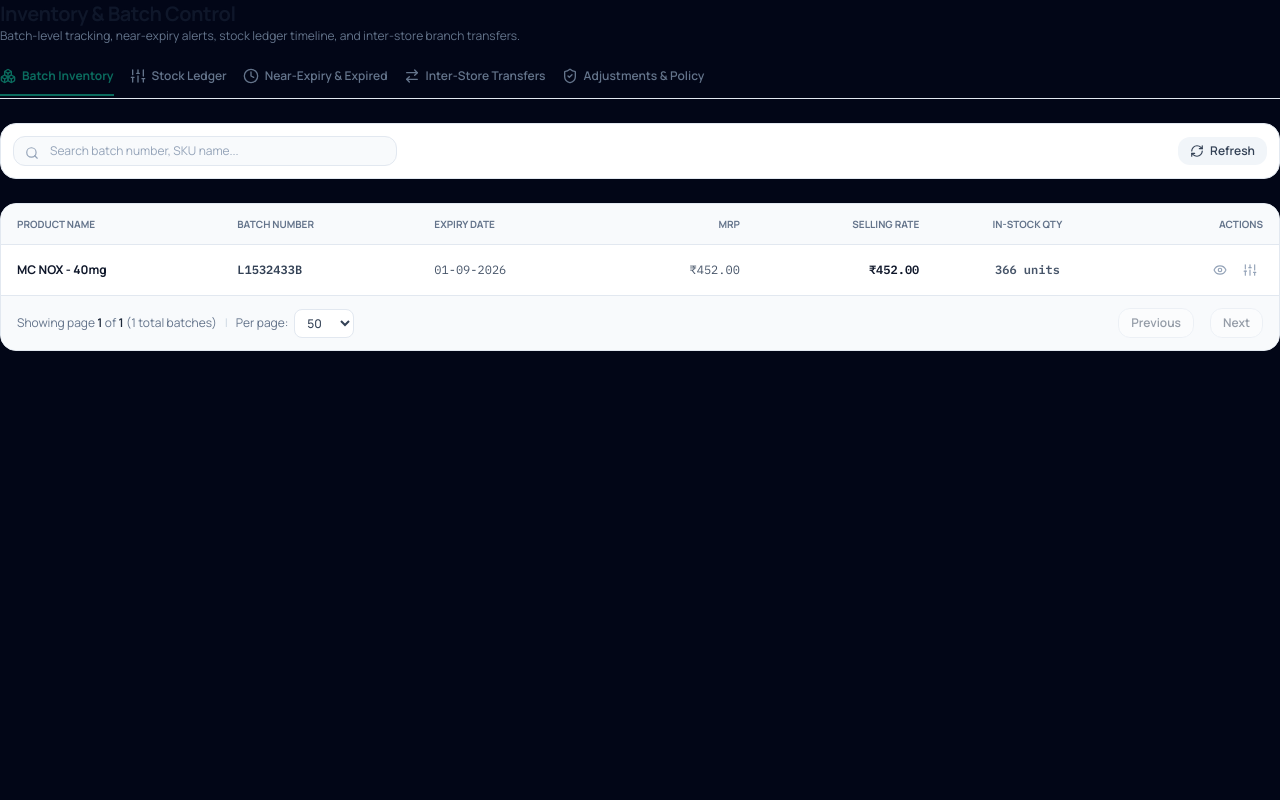
Test: Inventory row actions › reads a batch straight off the batch list, product nested or flattened
The width and height of the screenshot is (1280, 800).
Click the button "Batch Inventory" at (57, 82), box [0,68,114,96]
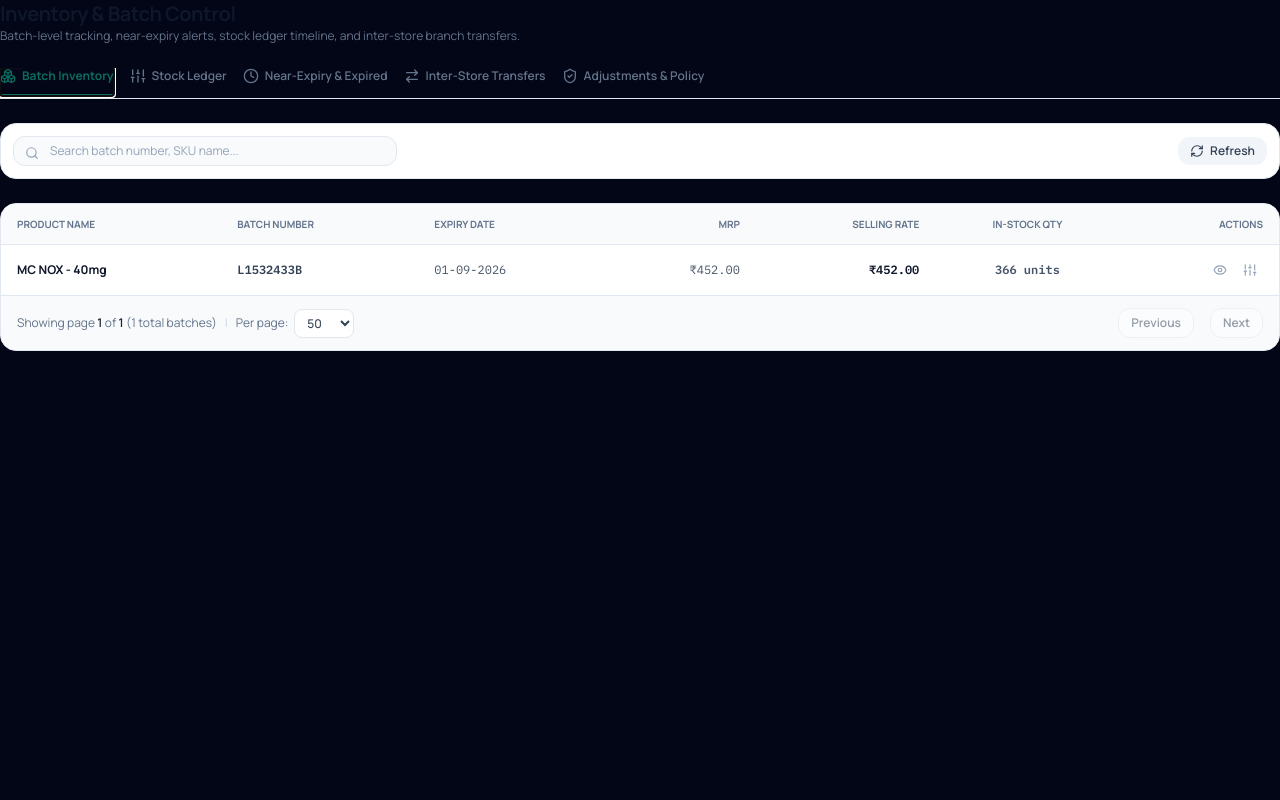
Expected: the button titled "Reconcile this batch against physical stock" is shown, [1237,257,1263,283]
Click the button titled "View batch & product movement" at (1220, 270), box [1207,257,1233,283]
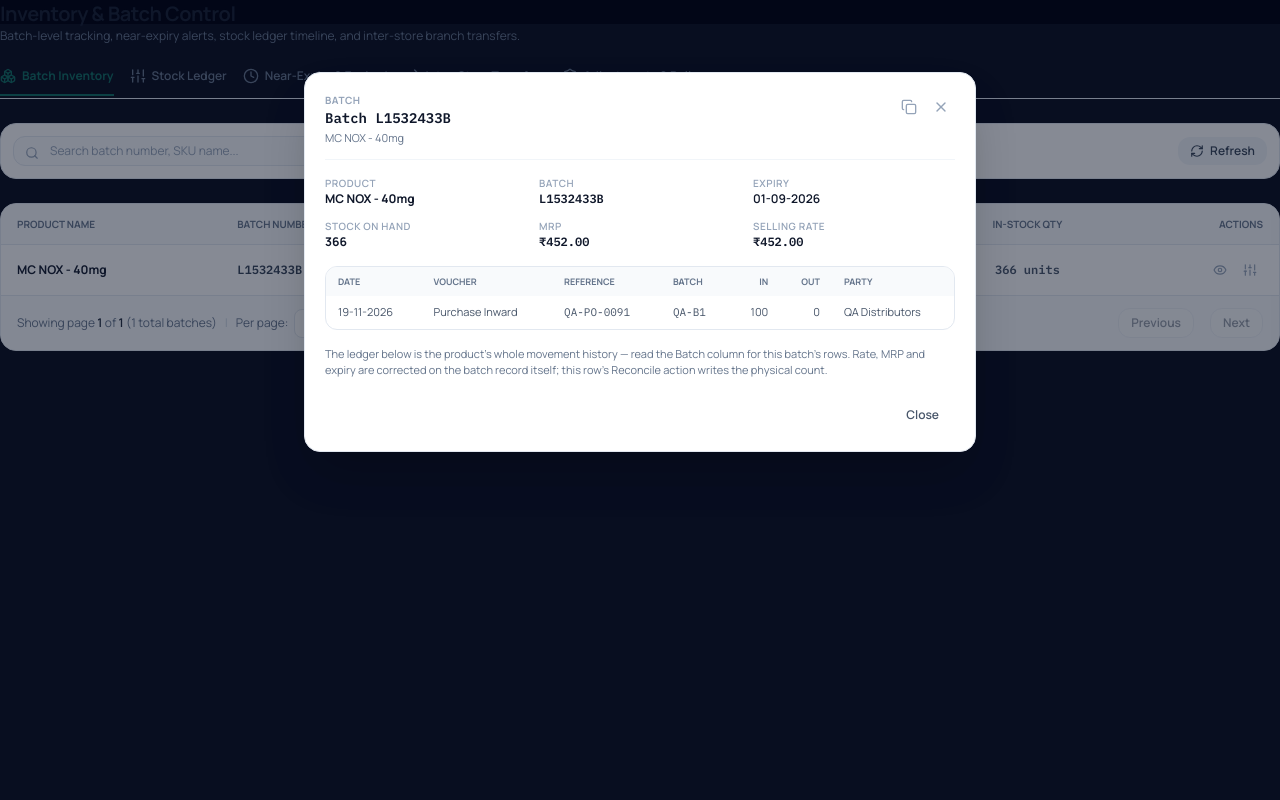
Result: the 1st text "MC NOX - 40mg" is shown at [325,130,404,145]
Result: the text "QA-PO-0091" is shown at [552,296,661,328]
